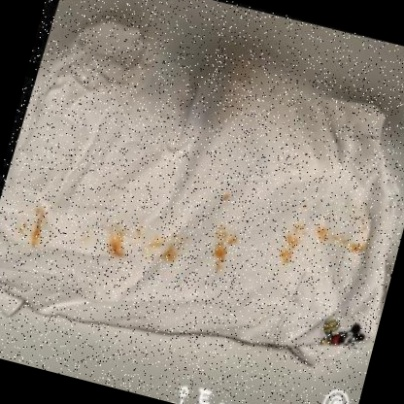kimchi: (280, 205, 375, 271), (94, 211, 192, 272), (199, 219, 247, 275), (11, 200, 51, 250), (270, 240, 303, 272), (217, 187, 239, 208)
